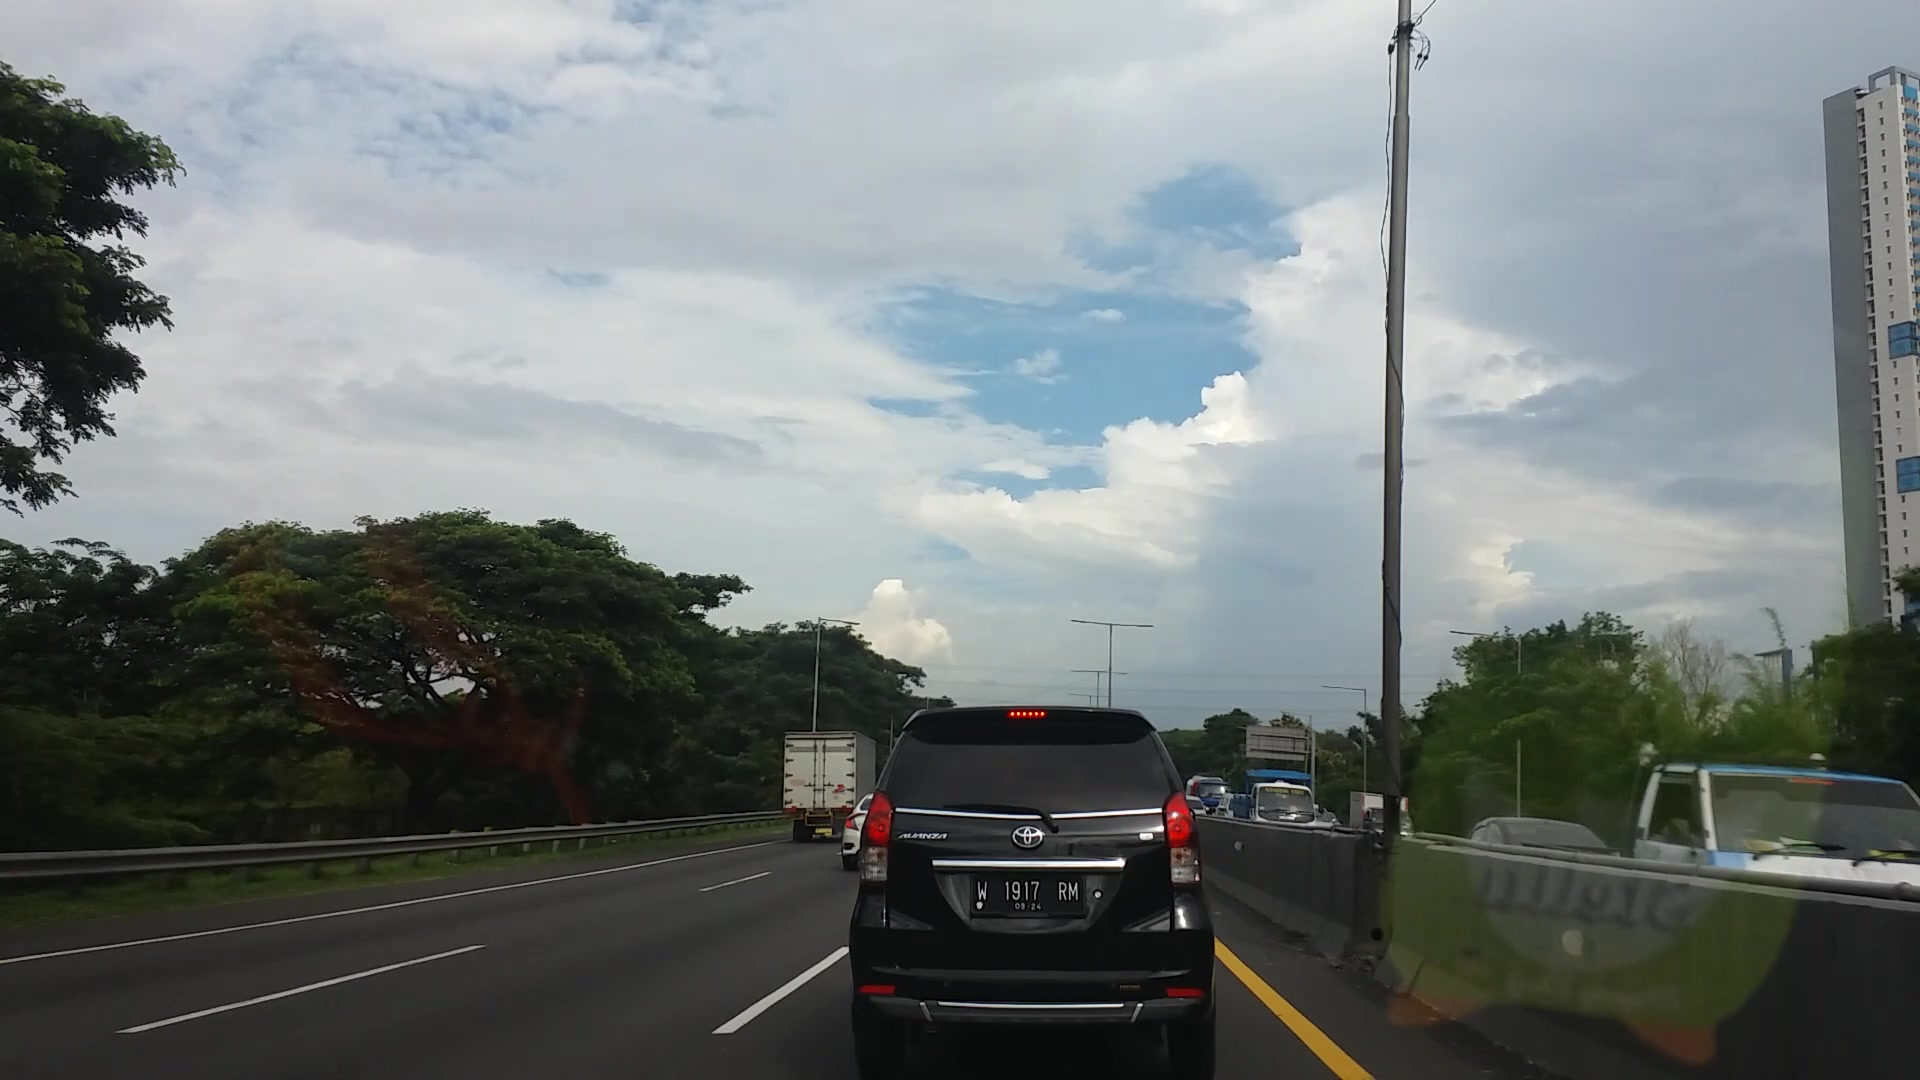plate_positive: (969, 872, 1087, 918)
